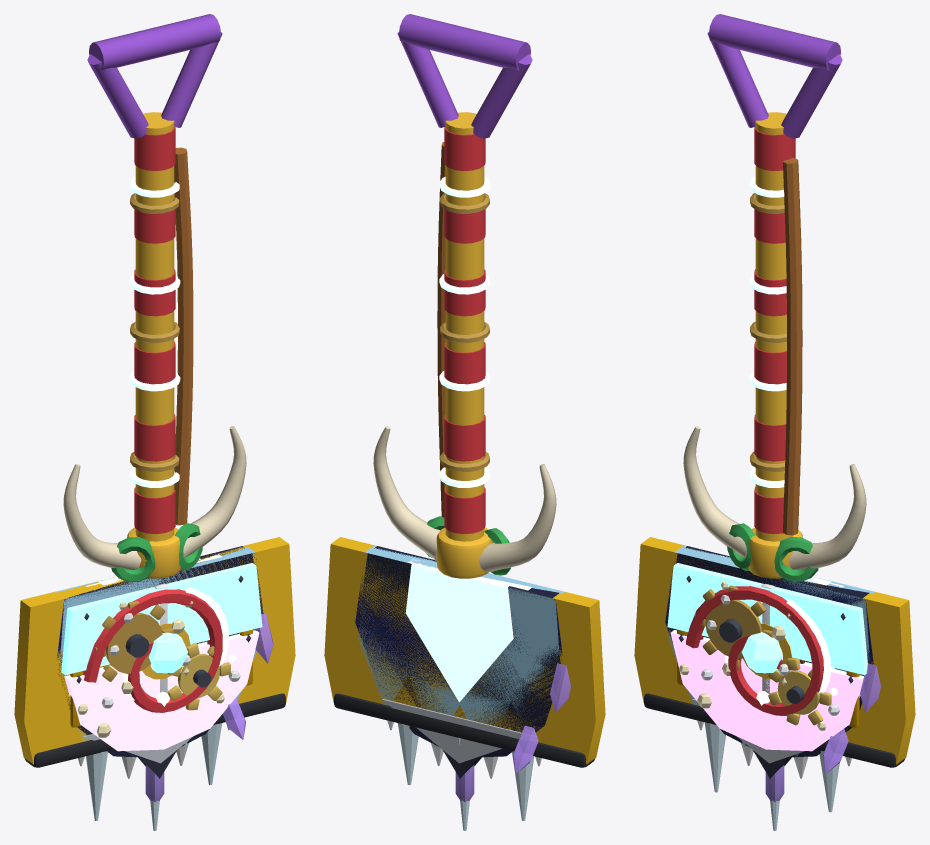
File: Shovels14.fbx
3 renders of one model, left to right at view 1: azimuth 30°, elevation 25°; view 2: azimuth 150°, elevation 25°; view 3: azimuth 330°, elevation 25°, orthographic.
Visible parts, largest first — view 1: SnowplowShovel__Blade__FFC81ESP, AuroraShovel__AuroraBottom__FF6EC8NE, CandyCaneShovel__Stripes__E63C46SP, AmethystShovel__Grip__9B59D8SP, AuroraShovel__AuroraTop__5AFFB4NE, AmethystShovel__Handle__FFC837ME, SteampunkShovel__Pipe__B87333ME, VikingShovel__Horns__F2E6C8SP, CandyCaneShovel__Swirl__E63C46SP, SteampunkShovel__Gears__C8A04AME, FrostFangShovel__Blade__A8E2FFSP, SnowplowShovel__Edge__2A2D34SP (+13 smaller); view 2: SnowplowShovel__Blade__FFC81ESP, FrostFangShovel__Blade__A8E2FFSP, PlasmaShovel__Core__78F0FFNE, AuroraShovel__Blade__1E2340SP, CandyCaneShovel__Stripes__E63C46SP, AmethystShovel__Grip__9B59D8SP, AmethystShovel__Handle__FFC837ME, VikingShovel__Horns__F2E6C8SP, GalaxyShovel__Blade__1A1F6ESP, SnowplowShovel__Edge__2A2D34SP, WoodenShovel__Tip__C8CED8ME, SteampunkShovel__Pipe__B87333ME (+7 smaller); view 3: SnowplowShovel__Blade__FFC81ESP, AuroraShovel__AuroraBottom__FF6EC8NE, AmethystShovel__Grip__9B59D8SP, AuroraShovel__AuroraTop__5AFFB4NE, CandyCaneShovel__Stripes__E63C46SP, SteampunkShovel__Pipe__B87333ME, AmethystShovel__Handle__FFC837ME, VikingShovel__Horns__F2E6C8SP, CandyCaneShovel__Swirl__E63C46SP, SteampunkShovel__Gears__C8A04AME, AuroraShovel__Blade__1E2340SP, AmethystShovel__Shards__B48CFFGLT10 (+13 smaller).
Boxes of the visible parts, x1,y1,x2,y2 form: SnowplowShovel__Blade__FFC81ESP: (14, 537, 295, 764); AuroraShovel__AuroraBottom__FF6EC8NE: (64, 630, 259, 751); CandyCaneShovel__Stripes__E63C46SP: (134, 126, 175, 534); AmethystShovel__Grip__9B59D8SP: (87, 14, 222, 138); AuroraShovel__AuroraTop__5AFFB4NE: (61, 563, 262, 675); AmethystShovel__Handle__FFC837ME: (135, 112, 174, 541); SteampunkShovel__Pipe__B87333ME: (174, 147, 193, 525); VikingShovel__Horns__F2E6C8SP: (63, 426, 246, 569); CandyCaneShovel__Swirl__E63C46SP: (83, 589, 222, 712); SteampunkShovel__Gears__C8A04AME: (94, 601, 173, 682); FrostFangShovel__Blade__A8E2FFSP: (55, 547, 256, 759); SnowplowShovel__Edge__2A2D34SP: (24, 693, 285, 767); SnowplowShovel__Blade__FFC81ESP: (324, 537, 605, 764); FrostFangShovel__Blade__A8E2FFSP: (358, 545, 564, 759); PlasmaShovel__Core__78F0FFNE: (405, 564, 513, 702); AuroraShovel__Blade__1E2340SP: (359, 546, 560, 757); CandyCaneShovel__Stripes__E63C46SP: (444, 126, 485, 534); AmethystShovel__Grip__9B59D8SP: (397, 14, 532, 138); AmethystShovel__Handle__FFC837ME: (445, 112, 484, 541); VikingShovel__Horns__F2E6C8SP: (373, 426, 556, 572); GalaxyShovel__Blade__1A1F6ESP: (355, 576, 562, 709); SnowplowShovel__Edge__2A2D34SP: (334, 693, 595, 767); WoodenShovel__Tip__C8CED8ME: (382, 699, 536, 763); SteampunkShovel__Pipe__B87333ME: (437, 142, 445, 517); SnowplowShovel__Blade__FFC81ESP: (634, 537, 915, 764); AuroraShovel__AuroraBottom__FF6EC8NE: (670, 630, 863, 751); AmethystShovel__Grip__9B59D8SP: (707, 14, 842, 138); AuroraShovel__AuroraTop__5AFFB4NE: (667, 563, 867, 675); CandyCaneShovel__Stripes__E63C46SP: (754, 126, 795, 534); SteampunkShovel__Pipe__B87333ME: (783, 158, 802, 535); AmethystShovel__Handle__FFC837ME: (755, 112, 793, 541); VikingShovel__Horns__F2E6C8SP: (683, 426, 866, 569); CandyCaneShovel__Swirl__E63C46SP: (686, 586, 823, 716); SteampunkShovel__Gears__C8A04AME: (694, 585, 773, 670); AuroraShovel__Blade__1E2340SP: (670, 546, 870, 757); AmethystShovel__Shards__B48CFFGLT10: (765, 663, 880, 801).
Size of the model in its own units: 1.76 by 4.96 by 0.4571.
